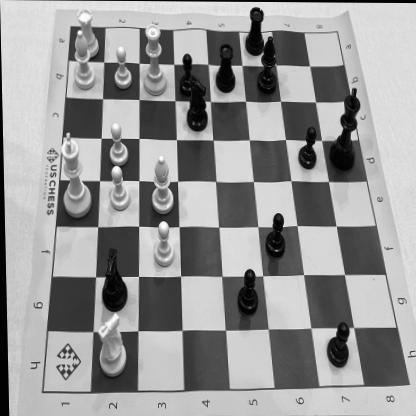black-bishop: (254, 34, 282, 96)
black-king: (325, 81, 363, 174)
black-knight: (96, 245, 133, 312), (182, 74, 214, 136)
black-pawn: (232, 262, 260, 318), (322, 318, 350, 372), (262, 206, 287, 261), (296, 122, 318, 172), (176, 49, 198, 96)
black-rook: (211, 39, 238, 96), (242, 1, 267, 58)
white-bishop: (66, 29, 100, 93), (146, 150, 178, 216)
white-king: (56, 129, 94, 221)
white-knight: (92, 308, 128, 382)
white-pawn: (148, 218, 177, 276), (104, 162, 134, 214), (110, 40, 136, 92), (104, 120, 130, 167)
white-queen: (138, 19, 171, 100)
white-rook: (73, 6, 103, 66)
